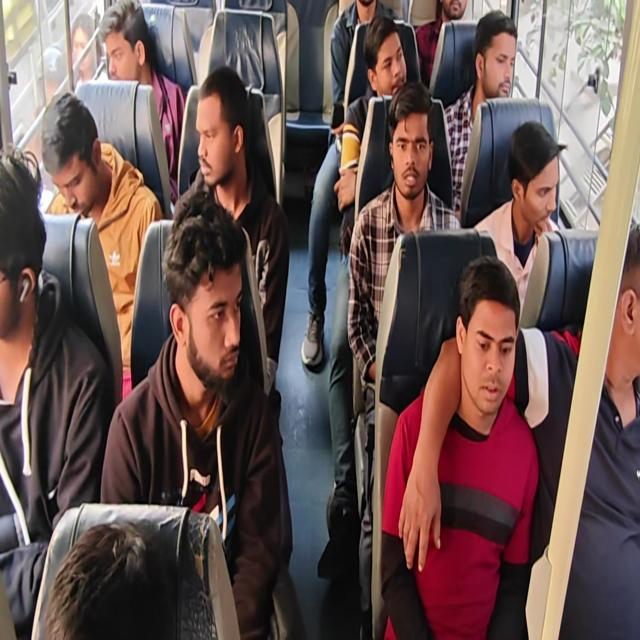person: (34, 484, 196, 640), (160, 193, 255, 403), (442, 247, 526, 434), (36, 85, 110, 224), (0, 136, 48, 347), (500, 106, 572, 242), (184, 67, 257, 192), (602, 231, 640, 432), (381, 82, 440, 207), (471, 13, 527, 111), (97, 0, 152, 90), (362, 14, 409, 102), (348, 0, 383, 28), (443, 0, 472, 20)
